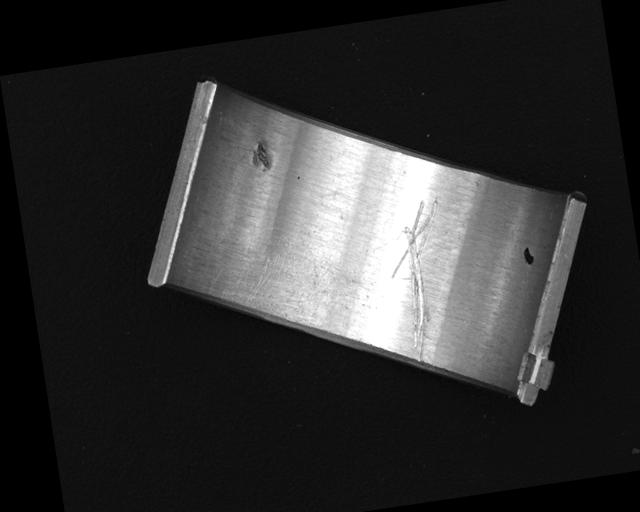blot: (520, 244, 537, 267)
bruise: (248, 137, 275, 174)
nick: (377, 198, 460, 367)
scratch: (203, 239, 344, 342)
